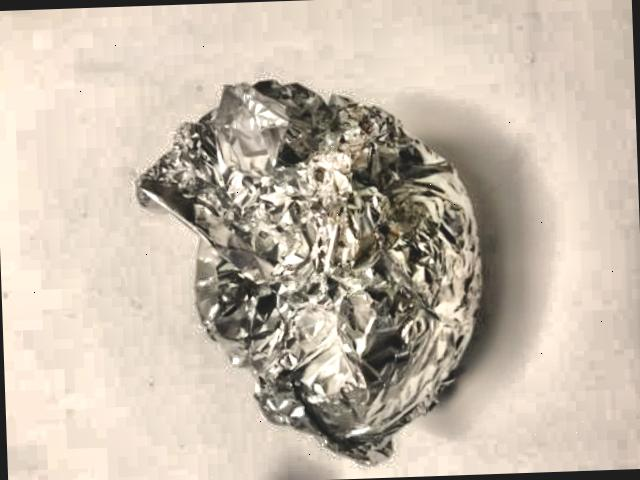Almennt: (123, 58, 519, 480)
